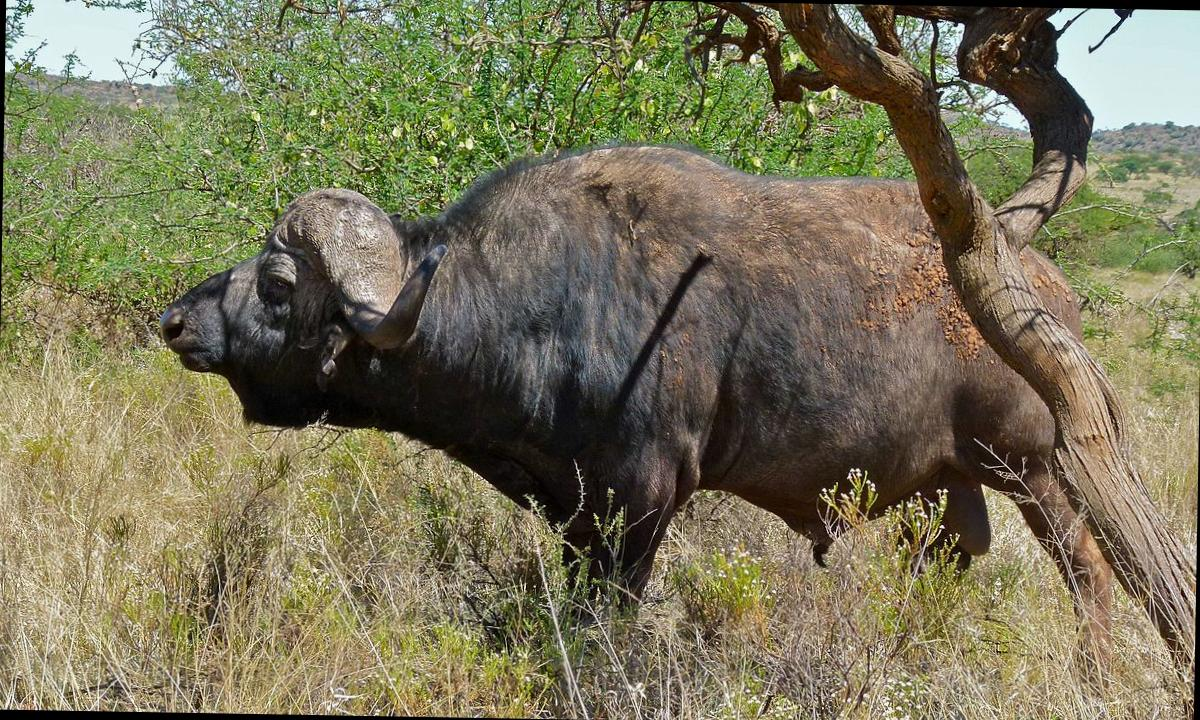Buffalo: (135, 65, 1174, 527)
